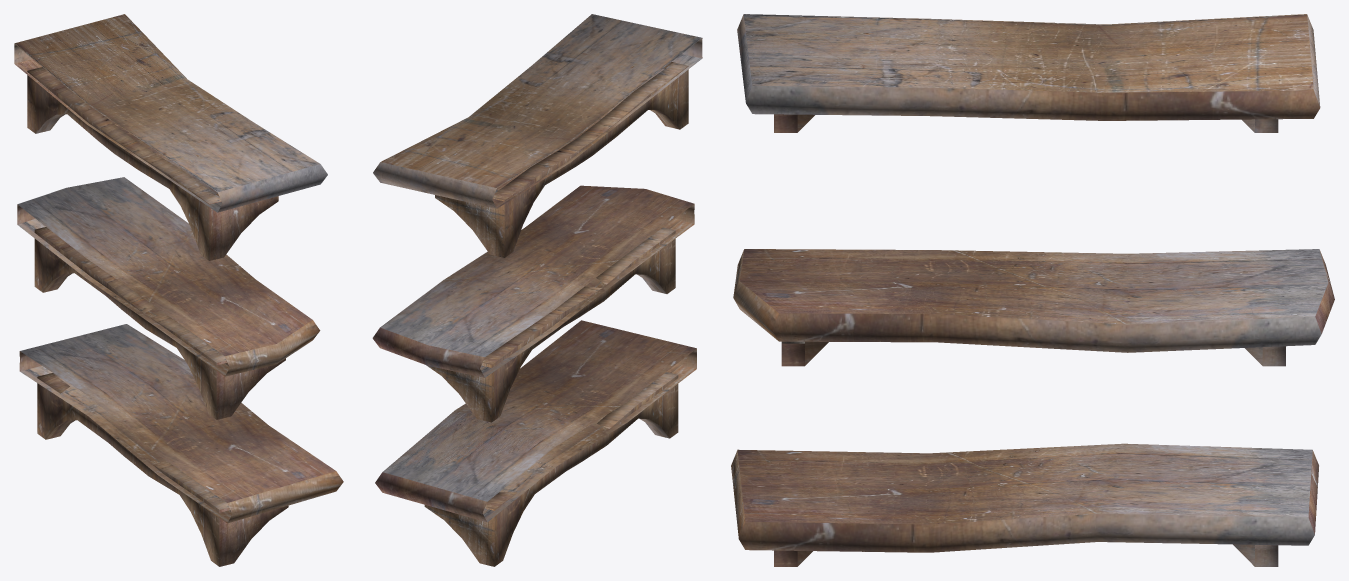
Rendered from Shelves.FBX.
3 renders of one model, left to right at view 1: azimuth 30°, elevation 25°; view 2: azimuth 150°, elevation 25°; view 3: azimuth 270°, elevation 25°, orthographic. The views are drawn at different scales.
Visible parts, largest first — view 1: shelves; view 2: shelves; view 3: shelves.
Boxes of the visible parts, x1,y1,x2,y2 form: shelves: [14, 14, 343, 566]; shelves: [372, 14, 702, 566]; shelves: [731, 14, 1334, 566].
Size of the model in its own units: 2.32 by 6.87 by 7.04.
